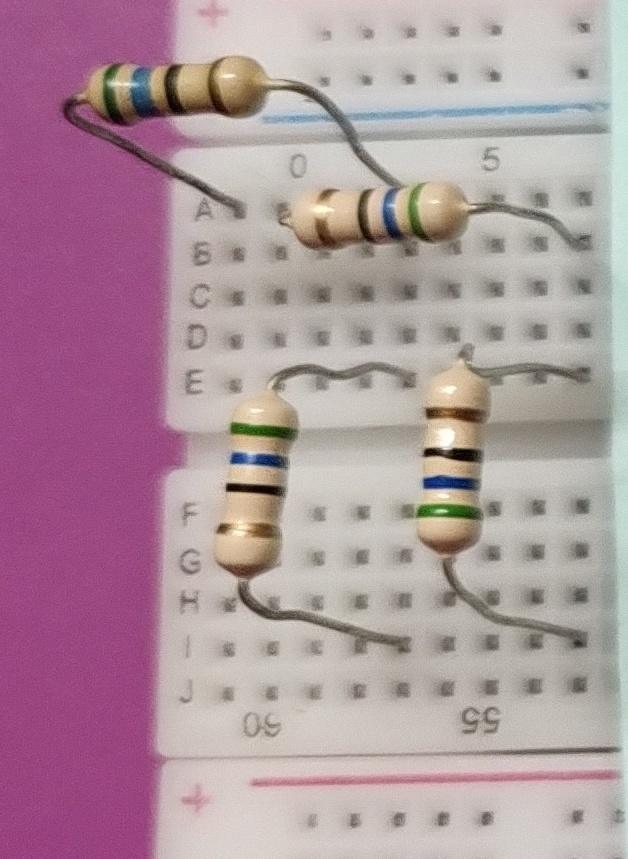resistor: (192, 374, 315, 611), (279, 165, 532, 270), (400, 350, 513, 576), (65, 42, 290, 137)
